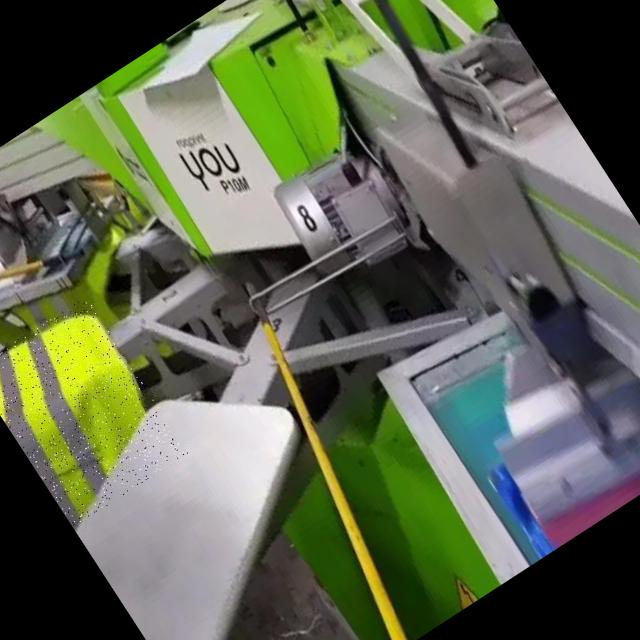safety_vest: (0, 294, 187, 526)
